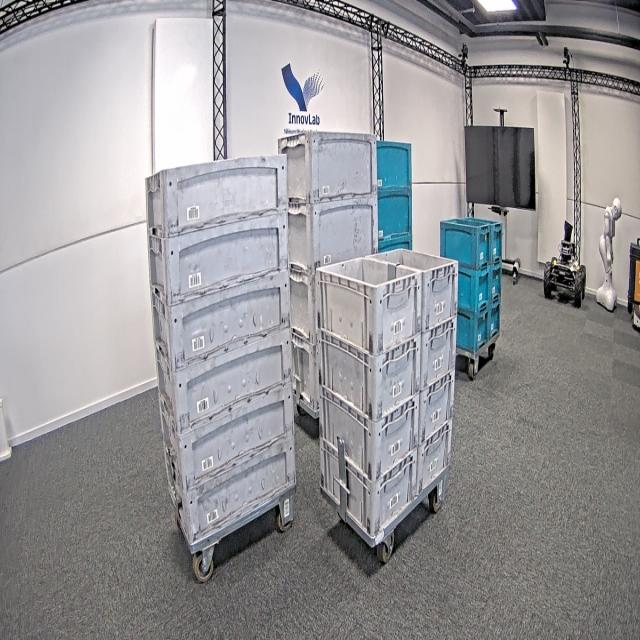Box3G: (154, 332, 294, 430), (147, 276, 292, 370), (139, 215, 293, 302), (175, 436, 299, 543), (167, 389, 296, 486), (148, 156, 290, 237)
Box4G: (281, 130, 378, 206), (288, 194, 379, 275), (291, 322, 333, 416), (287, 266, 322, 346)
Box8G: (318, 258, 414, 356), (320, 326, 416, 422), (321, 390, 417, 480), (368, 248, 457, 332), (317, 449, 416, 523), (419, 315, 458, 397), (414, 421, 452, 498), (419, 371, 457, 445)
BoxB4: (376, 140, 414, 192), (376, 190, 413, 243)
BoxB8: (439, 218, 492, 274), (456, 265, 491, 314), (454, 305, 488, 352), (488, 220, 503, 263), (488, 261, 503, 303), (487, 299, 502, 341)
